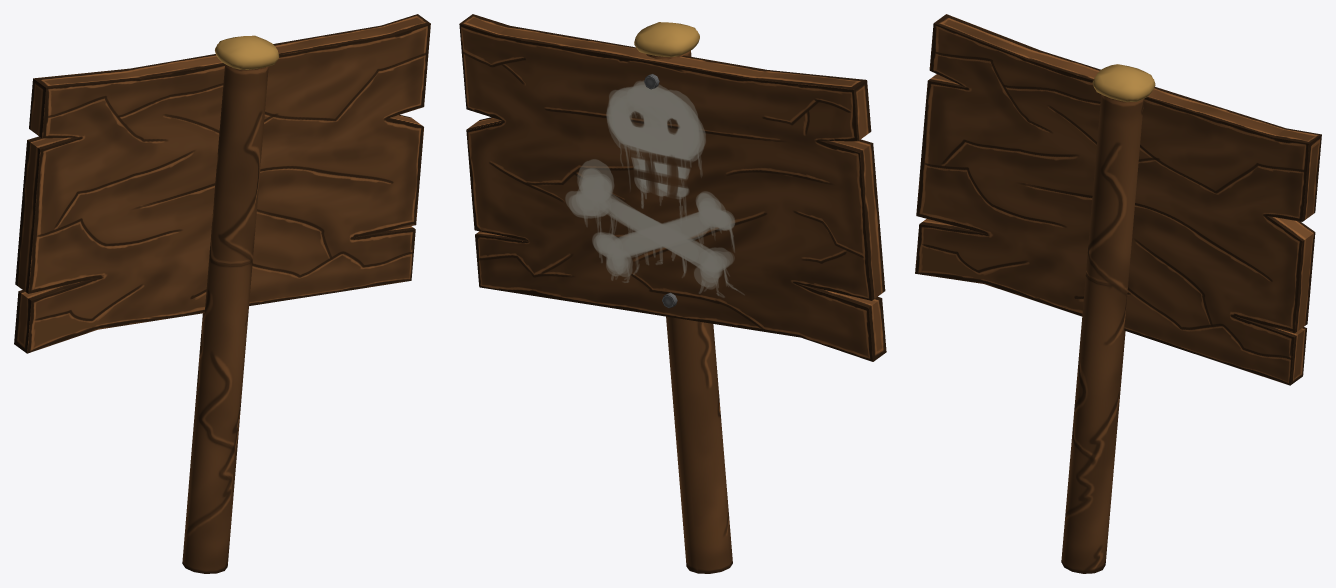
The model's file is sign1.FBX.
3 renders of one model, left to right at view 1: azimuth 30°, elevation 25°; view 2: azimuth 150°, elevation 25°; view 3: azimuth 330°, elevation 25°, orthographic. The views are drawn at different scales.
Parts seen in each view (by area): view 1: sign1; view 2: sign1; view 3: sign1.
Part boxes in pixels (x1,y1,x2,y2): sign1: (14,14,430,573); sign1: (459,14,886,573); sign1: (915,14,1321,573).
Bounding box in the file's own units: 41.27 × 50.58 × 5.93.
